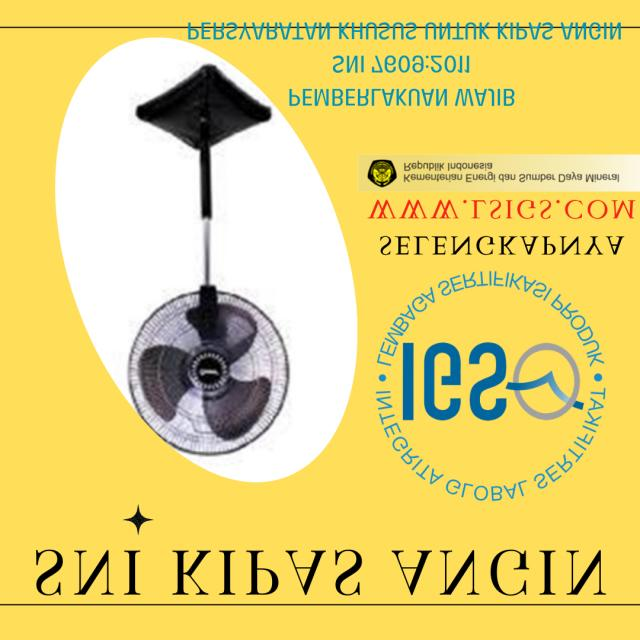fan: (131, 58, 295, 458)
